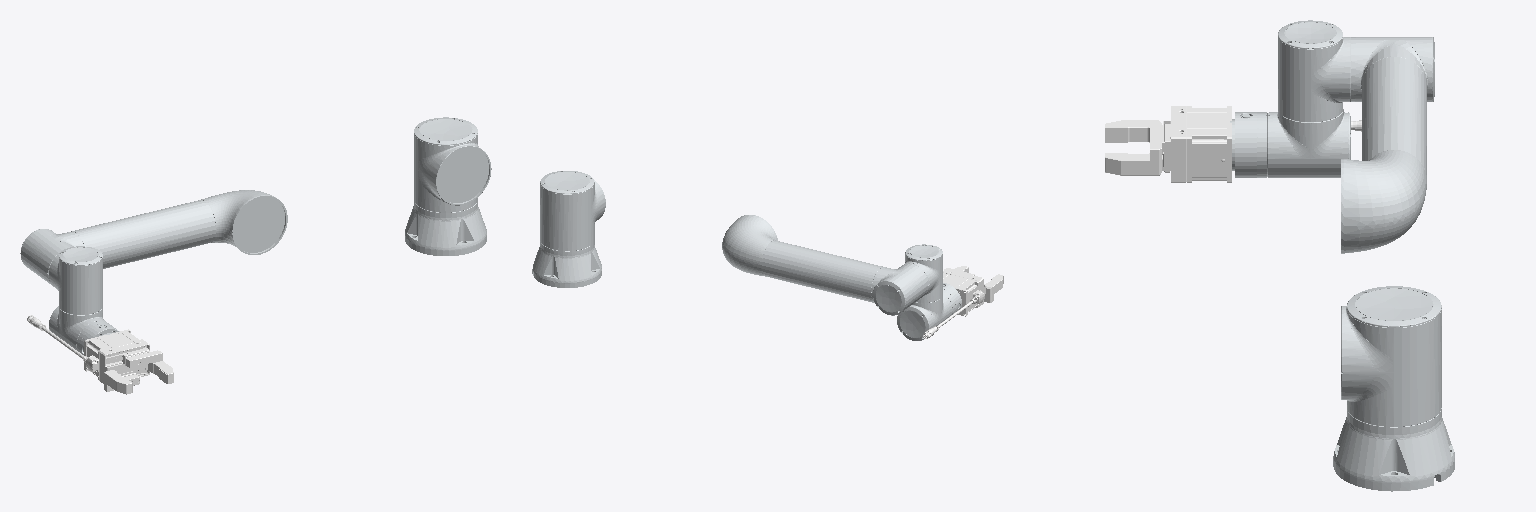
robot.urdf — fr5v6:
<?xml version="1.0" encoding="utf-8"?>
<!-- This URDF was automatically created by SolidWorks to URDF Exporter! Originally created by [author] ([email redacted]) 
     Commit Version: 1.5.1-0-g916b5db  Build Version: 1.5.7152.31018
     For more information, please see http://wiki.ros.org/sw_urdf_exporter -->
<robot
  name="fr5v6">
  
  <link name="world">
  </link>
  <joint name="world" type="fixed">
    <parent link="world"/>
    <child link="base_link"/>
  </joint>

  <link
    name="base_link">
    <inertial>
      <origin
        xyz="-0.00031896 -0.00029673 0.042463"
        rpy="0 0 0" />
      <mass
        value="1.6185" />
      <inertia
        ixx="0.0030836"
        ixy="1.5354E-05"
        ixz="-1.9315E-05"
        iyy="0.0030825"
        iyz="-1.7918E-05"
        izz="0.0045209" />
    </inertial>
    <visual>
      <origin
        xyz="0 0 0"
        rpy="0 0 0" />
      <geometry>
        <mesh
          filename="package://fr5_description/meshes/fr5v6/visual/base_link.DAE" />
      </geometry>
      <material
        name="">
        <color
          rgba="0.89804 0.91765 0.92941 1" />
      </material>
    </visual>
    <collision>
      <origin
        xyz="0 0 0"
        rpy="0 0 0" />
      <geometry>
        <mesh
          filename="package://fr5_description/meshes/fr5v6/collision/base_link.STL" />
      </geometry>
    </collision>
  </link>
  <link
    name="j1_Link">
    <inertial>
      <origin
        xyz="5.0029E-07 -0.0040922 0.14629"
        rpy="0 0 0" />
      <mass
        value="4.3771" />
      <inertia
        ixx="0.010731"
        ixy="-8.0587E-09"
        ixz="-3.6773E-08"
        iyy="0.010408"
        iyz="0.00012853"
        izz="0.0081793" />
    </inertial>
    <visual>
      <origin
        xyz="0 0 0"
        rpy="0 0 0" />
      <geometry>
        <mesh
          filename="package://fr5_description/meshes/fr5v6/visual/j1_Link.DAE" />
      </geometry>
      <material
        name="">
        <color
          rgba="0.89804 0.91765 0.92941 1" />
      </material>
    </visual>
    <collision>
      <origin
        xyz="0 0 0"
        rpy="0 0 0" />
      <geometry>
        <mesh
          filename="package://fr5_description/meshes/fr5v6/collision/j1_Link.STL" />
      </geometry>
    </collision>
  </link>
  <joint
    name="j1"
    type="revolute">
    <origin
      xyz="0 0 0"
      rpy="0 0 0" />
    <parent
      link="base_link" />
    <child
      link="j1_Link" />
    <axis
      xyz="0 0 1" />
    <limit
      lower="-3.0543"
      upper="3.0543"
      effort="150"
      velocity="3.15" />
    <calibration
      rising="0"
      falling="0" />
    <dynamics
      damping="0"
      friction="0" />
    <safety_controller
      soft_lower_limit="-3.0543"
      soft_upper_limit="3.0543"
      k_position="15"
      k_velocity="10" />
  </joint>
  <link
    name="j2_Link">
    <inertial>
      <origin
        xyz="-0.2125 -5.7643E-09 0.1346"
        rpy="0 0 0" />
      <mass
        value="14.458" />
      <inertia
        ixx="0.028392"
        ixy="-1.337E-07"
        ixz="-3.9895E-09"
        iyy="0.4559"
        iyz="4.214E-08"
        izz="0.44974" />
    </inertial>
    <visual>
      <origin
        xyz="0 0 0"
        rpy="0 0 0" />
      <geometry>
        <mesh
          filename="package://fr5_description/meshes/fr5v6/visual/j2_Link.DAE" />
      </geometry>
      <material
        name="">
        <color
          rgba="0.89804 0.91765 0.92941 1" />
      </material>
    </visual>
    <collision>
      <origin
        xyz="0 0 0"
        rpy="0 0 0" />
      <geometry>
        <mesh
          filename="package://fr5_description/meshes/fr5v6/collision/j2_Link.STL" />
      </geometry>
    </collision>
  </link>
  <joint
    name="j2"
    type="revolute">
    <origin
      xyz="0 0 0.152"
      rpy="1.5708 0 0" />
    <parent
      link="j1_Link" />
    <child
      link="j2_Link" />
    <axis
      xyz="0 0 1" />
    <limit
      lower="-4.6251"
      upper="1.4835"
      effort="150"
      velocity="3.15" />
    <calibration
      rising="0"
      falling="0" />
    <dynamics
      damping="0"
      friction="0" />
    <safety_controller
      soft_lower_limit="-4.6251"
      soft_upper_limit="1.4835"
      k_position="15"
      k_velocity="10" />
  </joint>
  <link
    name="j3_Link">
    <inertial>
      <origin
        xyz="-0.18793 -8.4503E-07 0.0066357"
        rpy="0 0 0" />
      <mass
        value="7.6737" />
      <inertia
        ixx="0.0085096"
        ixy="2.1613E-06"
        ixz="-0.0068678"
        iyy="0.16971"
        iyz="3.7086E-08"
        izz="0.16854" />
    </inertial>
    <visual>
      <origin
        xyz="0 0 0"
        rpy="0 0 0" />
      <geometry>
        <mesh
          filename="package://fr5_description/meshes/fr5v6/visual/j3_Link.DAE" />
      </geometry>
      <material
        name="">
        <color
          rgba="0.89804 0.91765 0.92941 1" />
      </material>
    </visual>
    <collision>
      <origin
        xyz="0 0 0"
        rpy="0 0 0" />
      <geometry>
        <mesh
          filename="package://fr5_description/meshes/fr5v6/collision/j3_Link.STL" />
      </geometry>
    </collision>
  </link>
  <joint
    name="j3"
    type="revolute">
    <origin
      xyz="-0.425 0 0"
      rpy="0 0 0" />
    <parent
      link="j2_Link" />
    <child
      link="j3_Link" />
    <axis
      xyz="0 0 1" />
    <limit
      lower="-2.8274"
      upper="2.8274"
      effort="150"
      velocity="3.15" />
    <calibration
      rising="0"
      falling="0" />
    <dynamics
      damping="0"
      friction="0" />
    <safety_controller
      soft_lower_limit="-2.8274"
      soft_upper_limit="2.8274"
      k_position="15"
      k_velocity="10" />
  </joint>
  <link
    name="j4_Link">
    <inertial>
      <origin
        xyz="4.98E-07 -0.003754 0.097155"
        rpy="0 0 0" />
      <mass
        value="1.6266" />
      <inertia
        ixx="0.00216"
        ixy="4.888E-09"
        ixz="3.1528E-08"
        iyy="0.0015455"
        iyz="3.7678E-05"
        izz="0.0019902" />
    </inertial>
    <visual>
      <origin
        xyz="0 0 0"
        rpy="0 0 0" />
      <geometry>
        <mesh
          filename="package://fr5_description/meshes/fr5v6/visual/j4_Link.DAE" />
      </geometry>
      <material
        name="">
        <color
          rgba="0.89804 0.91765 0.92941 1" />
      </material>
    </visual>
    <collision>
      <origin
        xyz="0 0 0"
        rpy="0 0 0" />
      <geometry>
        <mesh
          filename="package://fr5_description/meshes/fr5v6/collision/j4_Link.STL" />
      </geometry>
    </collision>
  </link>
  <joint
    name="j4"
    type="revolute">
    <origin
      xyz="-0.39501 0 0"
      rpy="0 0 0" />
    <parent
      link="j3_Link" />
    <child
      link="j4_Link" />
    <axis
      xyz="0 0 1" />
    <limit
      lower="-4.6251"
      upper="1.4835"
      effort="28"
      velocity="3.2" />
    <calibration
      rising="0"
      falling="0" />
    <dynamics
      damping="0"
      friction="0" />
    <safety_controller
      soft_lower_limit="-4.6251"
      soft_upper_limit="1.4835"
      k_position="15"
      k_velocity="10" />
  </joint>
  <link
    name="j5_Link">
    <inertial>
      <origin
        xyz="-4.5588E-07 0.0038617 0.098257"
        rpy="0 0 0" />
      <mass
        value="1.5812" />
      <inertia
        ixx="0.0020612"
        ixy="8.7064E-09"
        ixz="-3.4742E-08"
        iyy="0.0014477"
        iyz="-2.8534E-05"
        izz="0.0019573" />
    </inertial>
    <visual>
      <origin
        xyz="0 0 0"
        rpy="0 0 0" />
      <geometry>
        <mesh
          filename="package://fr5_description/meshes/fr5v6/visual/j5_Link.DAE" />
      </geometry>
      <material
        name="">
        <color
          rgba="0.89804 0.91765 0.92941 1" />
      </material>
    </visual>
    <collision>
      <origins
        xyz="0 0 0"
        rpy="0 0 0" />
      <geometry>
        <mesh
          filename="package://fr5_description/meshes/fr5v6/collision/j5_Link.STL" />
      </geometry>
    </collision>
  </link>
  <joint
    name="j5"
    type="revolute">
    <origin
      xyz="0 0 0.1021"
      rpy="1.5708 0 0" />
    <parent
      link="j4_Link" />
    <child
      link="j5_Link" />
    <axis
      xyz="0 0 1" />
    <limit
      lower="-3.0543"
      upper="3.0543"
      effort="28"
      velocity="3.2" />
    <calibration
      rising="0"
      falling="0" />
    <dynamics
      damping="0"
      friction="0" />
    <safety_controller
      soft_lower_limit="-3.0543"
      soft_upper_limit="3.0543"
      k_position="15"
      k_velocity="10" />
  </joint>
  <link
    name="j6_Link">
    <inertial>
      <origin
        xyz="7.7496E-05 1.7751E-05 0.076122"
        rpy="0 0 0" />
      <mass
        value="0.52542" />
      <inertia
        ixx="0.00027721"
        ixy="-1.8677E-09"
        ixz="-1.188E-07"
        iyy="0.00027839"
        iyz="2.2607E-07"
        izz="0.00041605" />
    </inertial>
    <visual>
      <origin
        xyz="0 0 0"
        rpy="0 0 0" />
      <geometry>
        <mesh
          filename="package://fr5_description/meshes/fr5v6/visual/j6_Link.DAE" />
      </geometry>
      <material
        name="">
        <color
          rgba="0.89804 0.91765 0.92941 1" />
      </material>
    </visual>
    <collision>
      <origin
        xyz="0 0 0"
        rpy="0 0 0" />
      <geometry>
        <mesh
          filename="package://fr5_description/meshes/fr5v6/collision/j6_Link.STL" />
      </geometry>
    </collision>
  </link>
  <joint
    name="j6"
    type="revolute">
    <origin
      xyz="0 0 0.102"
      rpy="-1.5708 0 0" />
    <parent
      link="j5_Link" />
    <child
      link="j6_Link" />
    <axis
      xyz="0 0 1" />
    <limit
      lower="-3.0543"
      upper="3.0543"
      effort="28"
      velocity="3.2" />
    <calibration
      rising="0"
      falling="0" />
    <dynamics
      damping="0"
      friction="0" />
    <safety_controller
      soft_lower_limit="-3.0543"
      soft_upper_limit="3.0543"
      k_position="15"
      k_velocity="10" />
  </joint>
  
  <link
    name="hand_base_link">
    <inertial>
      <origin
        xyz="1.045 -0.01 -0.1"
        rpy="0 0 0" />
      <mass
        value="1.415640442478951" />
      <inertia
        ixx="0.00019621588068043"
        ixy="-2.95674210904856E-07"
        ixz="-1.95611838748227E-08"
        iyy="0.000433342528155916"
        iyz="2.12715894328206E-08"
        izz="0.000396532471899526" />
    </inertial>
    <visual>
      <origin
        xyz="0.04 -0.005 0"
        rpy="0 0 0" />
      <geometry>
        <mesh
          filename="package://fr5_description/meshes/hand_base_link.STL" />
      </geometry>
      <material
        name="">
        <color
          rgba="1 1 1 1" />
      </material>
    </visual>
    <collision>
      <origin
        xyz="0.04 -0.005 0"
        rpy="0 0 0" />
      <geometry>
        <mesh
          filename="package://fr5_description/meshes/hand_base_link.STL" />
      </geometry>
    </collision>
  </link>
  <joint name="arm_hand_joint" type="fixed">
    <origin xyz="0 0 0.12" rpy="0 0 3.14159" />
    <parent link="j6_Link" />
    <child link="hand_base_link" />
    <axis xyz="0 0 0" />
  <limit lower="-2.79" upper="2.79" effort="100"/>
  </joint>
  <link
    name="finger_link1">
    <inertial>
      <origin
        xyz="-0.0765920818887161 0.0785524897759977 0.00485564932597477"
        rpy="0 0 0" />
      <mass
        value="0.0589543896992846" />
      <inertia
        ixx="2.37128965154064E-05"
        ixy="4.94815116549898E-06"
        ixz="-3.83269385718325E-06"
        iyy="1.98369145830284E-05"
        iyz="4.62772008724202E-06"
        izz="3.37272907966157E-05" />
    </inertial>
    <visual>
      <origin
        xyz="0 0 0"
        rpy="0 0 0" />
      <geometry>
        <mesh
          filename="package://fr5_description/meshes/finger_link1.STL" />
      </geometry>
      <material
        name="">
        <color
          rgba="1 1 1 1" />
      </material>
    </visual>
    <collision>
      <origin
        xyz="0 0 0"
        rpy="0 0 0" />
      <geometry>
        <mesh
          filename="package://fr5_description/meshes/finger_link1.STL" />
      </geometry>
    </collision>
  </link>

  <joint
    name="fj1"
    type="prismatic">
    <origin
      xyz="0.0445 0 0"
      rpy="1.5708 0 0" />
    <parent
      link="hand_base_link" />
    <child
      link="finger_link1" />
    <axis
      xyz="1 0 0" />
    <limit
      lower="0"
      upper="0.04"
      effort="40"
      velocity="1" />
  </joint>
  <link
    name="finger_link2">
    <inertial>
      <origin
        xyz="-0.0765920818887161 0.0800524897759977 0.00485564932597478"
        rpy="0 0 0" />
      <mass
        value="0.0589543896992846" />
      <inertia
        ixx="2.37128965154064E-05"
        ixy="4.94815116549897E-06"
        ixz="-3.83269385718325E-06"
        iyy="1.98369145830285E-05"
        iyz="4.62772008724202E-06"
        izz="3.37272907966157E-05" />
    </inertial>
    <visual>
      <origin
        xyz="0 0 0"
        rpy="0 0 0" />
      <geometry>
        <mesh
          filename="package://fr5_description/meshes/finger_link2.STL" />
      </geometry>
      <material
        name="">
        <color
          rgba="1 1 1 1" />
      </material>
    </visual>
    <collision>
      <origin
        xyz="0 0 0"
        rpy="0 0 0" />
      <geometry>
        <mesh
          filename="package://fr5_description/meshes/finger_link2.STL" />
      </geometry>
    </collision>
  </link>
  <joint
    name="fj2"
    type="prismatic">
    <origin
      xyz="-0.0425 0.0087157 -0.0015"
      rpy="1.5708 0 3.1416" />
    <parent
      link="hand_base_link" />
    <child
      link="finger_link2" />
    <axis
      xyz="1 0 0" />
    <limit
      lower="0"
      upper="0.04"
      effort="40"
      velocity="1" />
  </joint>



</robot>

--- Render facts (derived) ---
Views: 3 orthographic renders of the robot side by side, from view 1: azimuth 30°, elevation 25°; view 2: azimuth 150°, elevation 25°; view 3: azimuth 270°, elevation 25°.
Robot: fr5v6 — 11 links, 10 joints (6 revolute, 2 prismatic, 2 fixed); root link world; default pose: every joint at zero.
Visible links, largest first — view 1: j3_Link, j1_Link, base_link, j4_Link, hand_base_link, j5_Link, finger_link1, finger_link2, j6_Link; view 2: j3_Link, j1_Link, base_link, j5_Link, j4_Link, hand_base_link; view 3: j3_Link, j1_Link, base_link, j4_Link, j5_Link, hand_base_link, j6_Link, finger_link1, finger_link2.
Link boxes in pixels (x1=…): j3_Link: x1=20, y1=190, x2=287, y2=284; j1_Link: x1=414, y1=117, x2=491, y2=212; base_link: x1=405, y1=202, x2=486, y2=255; j4_Link: x1=49, y1=246, x2=102, y2=314; hand_base_link: x1=27, y1=315, x2=149, y2=383; j5_Link: x1=49, y1=306, x2=105, y2=349; finger_link1: x1=122, y1=348, x2=173, y2=383; finger_link2: x1=104, y1=370, x2=139, y2=394; j6_Link: x1=77, y1=321, x2=119, y2=354; j3_Link: x1=722, y1=215, x2=928, y2=315; j1_Link: x1=540, y1=171, x2=605, y2=250; base_link: x1=532, y1=240, x2=601, y2=287; j5_Link: x1=897, y1=293, x2=952, y2=340; j4_Link: x1=905, y1=244, x2=942, y2=302; hand_base_link: x1=923, y1=269, x2=985, y2=338; j3_Link: x1=1341, y1=37, x2=1434, y2=253; j1_Link: x1=1341, y1=286, x2=1441, y2=426; base_link: x1=1333, y1=408, x2=1454, y2=491; j4_Link: x1=1278, y1=20, x2=1350, y2=121; j5_Link: x1=1267, y1=109, x2=1350, y2=177; hand_base_link: x1=1163, y1=106, x2=1361, y2=182; j6_Link: x1=1230, y1=112, x2=1266, y2=177; finger_link1: x1=1105, y1=124, x2=1170, y2=175; finger_link2: x1=1105, y1=120, x2=1170, y2=172.
Bounding box of the posed robot: 0.9574 × 0.4284 × 0.2174 m (x, y, z).
9 mesh visuals loaded from 10 distinct referenced files (3 binary STL, 6 Collada DAE); not drawn: 1 (reference not matched to a file when rendering).
